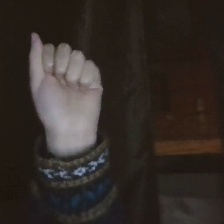A: (19, 28, 117, 139)
